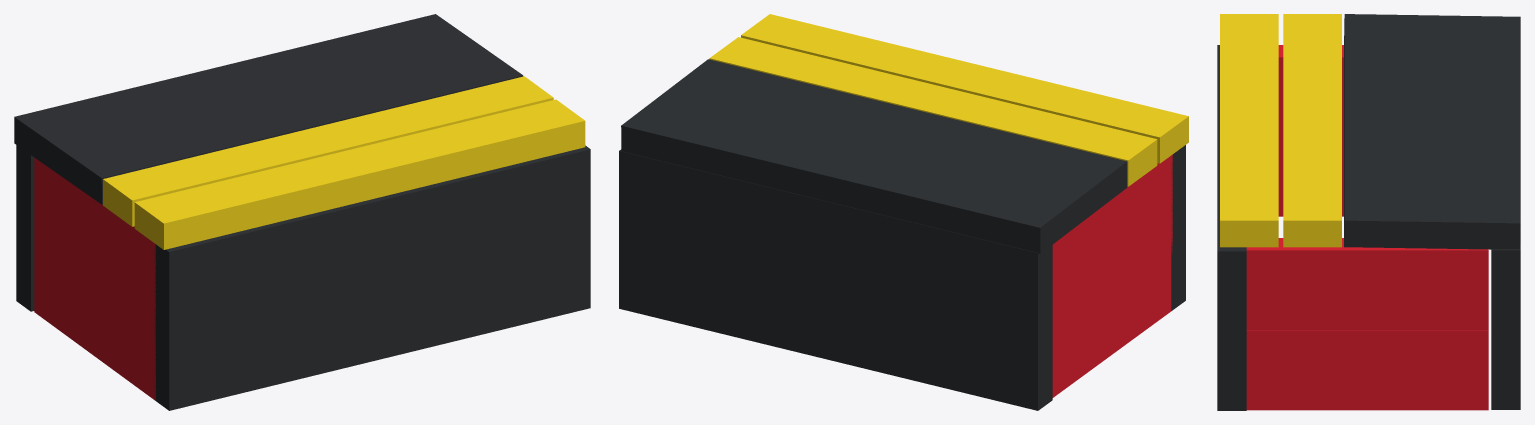
File: tinker.obj
3 views of the same model, side by side, from view 1: azimuth 30°, elevation 25°; view 2: azimuth 150°, elevation 25°; view 3: azimuth 270°, elevation 25° (orthographic).
Parts seen in each view (by area): view 1: obj_8, obj_5, obj_7, obj_6, obj_4, obj_2, obj_0; view 2: obj_0, obj_5, obj_7, obj_6, obj_4, obj_2, obj_8; view 3: obj_5, obj_1, obj_3, obj_6, obj_7, obj_8, obj_0, obj_2, obj_4.
Boxes of the visible parts, <box> form: obj_8: <box>154,145,590,410</box>; obj_5: <box>14,14,523,204</box>; obj_7: <box>134,99,585,249</box>; obj_6: <box>103,76,553,226</box>; obj_4: <box>34,233,155,400</box>; obj_2: <box>34,157,155,321</box>; obj_0: <box>16,145,34,311</box>; obj_0: <box>619,149,1052,410</box>; obj_5: <box>621,59,1127,253</box>; obj_7: <box>741,14,1188,163</box>; obj_6: <box>709,37,1157,186</box>; obj_4: <box>1052,232,1172,397</box>; obj_2: <box>1052,154,1172,318</box>; obj_8: <box>1171,145,1185,310</box>; obj_5: <box>1344,14,1520,249</box>; obj_1: <box>1246,238,1488,330</box>; obj_3: <box>1246,330,1488,410</box>; obj_6: <box>1283,14,1341,247</box>; obj_7: <box>1220,14,1278,247</box>; obj_8: <box>1217,45,1246,410</box>; obj_0: <box>1491,226,1520,409</box>; obj_2: <box>1278,45,1343,136</box>; obj_4: <box>1278,137,1343,216</box>.
Size of the model in its own units: 202 by 85.06 by 124.
